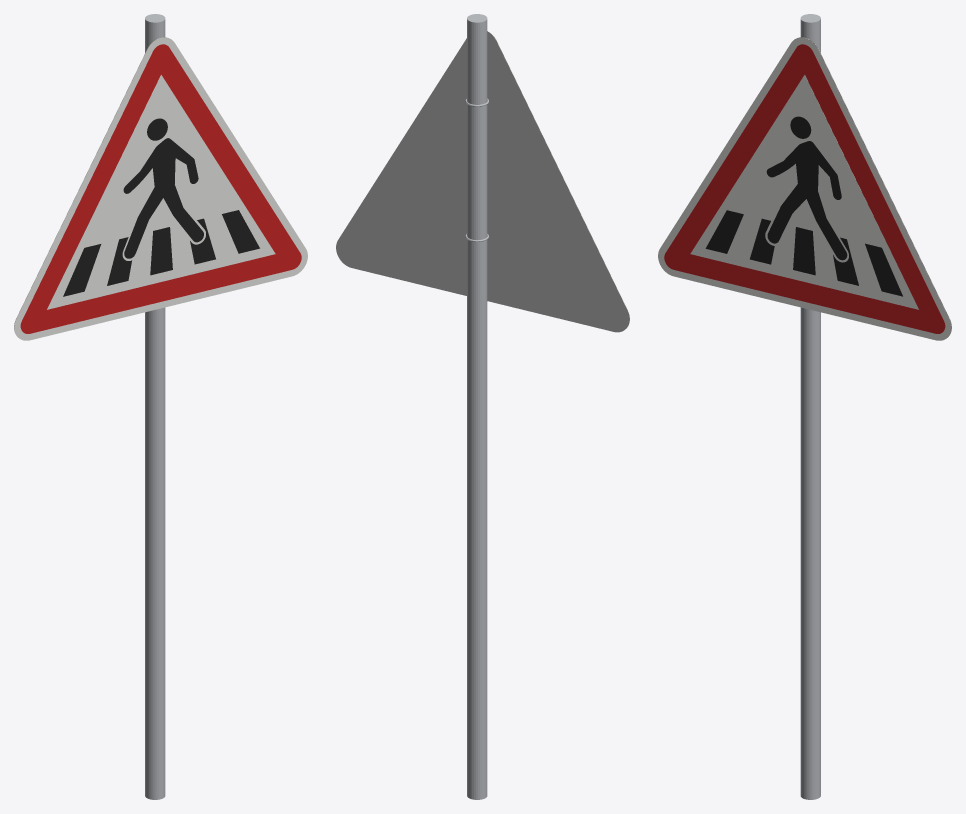
File: poteau_A13b.glb
The picture shows the model from 3 angles, left to right: view 1: azimuth 30°, elevation 25°; view 2: azimuth 150°, elevation 25°; view 3: azimuth 330°, elevation 25°; orthographic projection.
Parts seen in each view (by area): view 1: A13b_p02, A13b_p01, poteau_A13b_poteau, A13b_p00, A13b_p04, A13b_p07, A13b_p09, A13b_p05, A13b_p08, A13b_p06; view 2: A13b_dos, poteau_A13b_poteau; view 3: A13b_p02, A13b_p01, poteau_A13b_poteau, A13b_p00, A13b_p04, A13b_p07, A13b_p05, A13b_p09, A13b_p08, A13b_p06.
Part boxes in pixels (box(x1,y1,x2,y2)): A13b_p02: box(47, 75, 275, 309); A13b_p01: box(20, 44, 301, 333); poteau_A13b_poteau: box(145, 14, 165, 799); A13b_p00: box(14, 37, 307, 340); A13b_p04: box(123, 138, 203, 258); A13b_p07: box(150, 227, 172, 275); A13b_p09: box(63, 244, 101, 296); A13b_p05: box(222, 210, 259, 253); A13b_p08: box(107, 237, 131, 285); A13b_p06: box(190, 218, 215, 264); A13b_dos: box(336, 31, 629, 332); poteau_A13b_poteau: box(467, 14, 487, 799); A13b_p02: box(690, 75, 918, 309); A13b_p01: box(664, 44, 945, 333); poteau_A13b_poteau: box(800, 14, 820, 799); A13b_p00: box(658, 37, 951, 340); A13b_p04: box(766, 141, 847, 260); A13b_p07: box(793, 227, 815, 275); A13b_p05: box(865, 243, 902, 296); A13b_p09: box(705, 210, 743, 253); A13b_p08: box(750, 218, 774, 264); A13b_p06: box(833, 237, 858, 285).
Size of the model in its own units: 1 by 2.53 by 0.0736.
